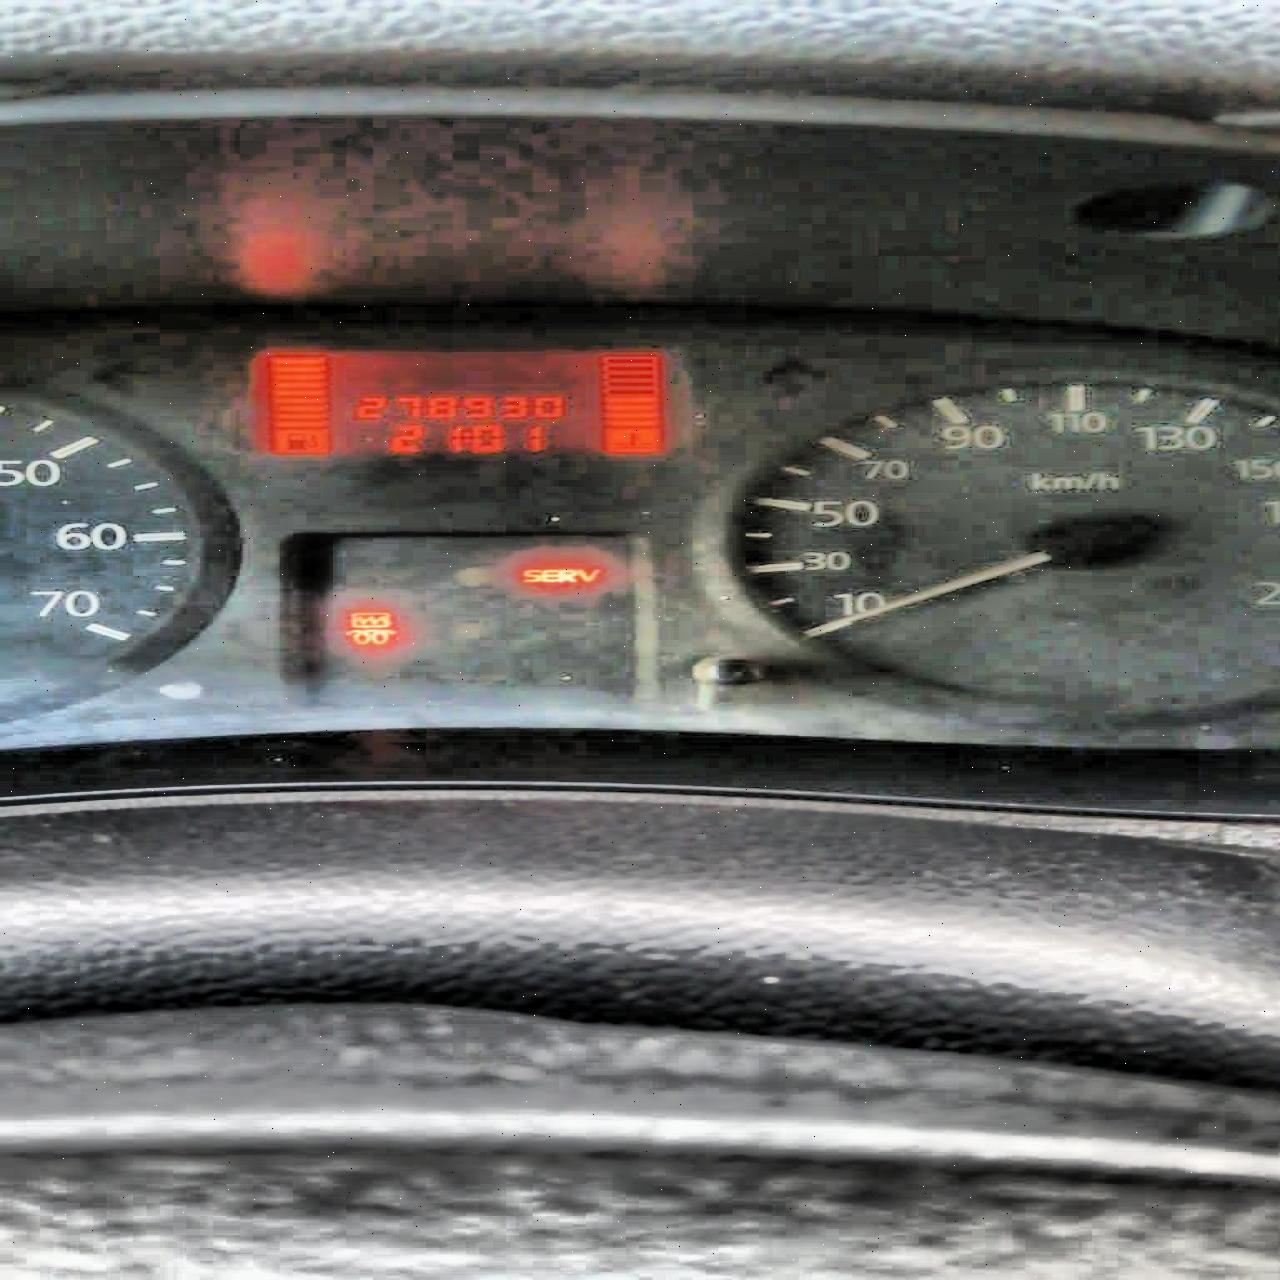0: (469, 423, 503, 452), (531, 395, 563, 417)
1: (527, 424, 542, 451), (449, 425, 461, 450)
2: (388, 424, 423, 452), (353, 396, 387, 417)
3: (499, 396, 526, 417)
7: (396, 396, 421, 417)
8: (425, 396, 456, 417)
9: (461, 396, 491, 417)
X: (461, 430, 471, 443)
odometer: (245, 345, 674, 458)
